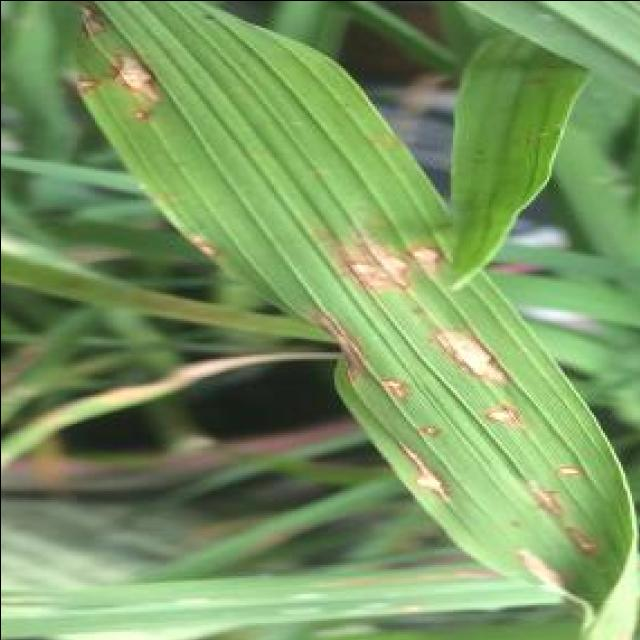Leaf_Blast: (436, 322, 530, 400), (396, 439, 470, 519), (105, 52, 170, 130), (508, 550, 584, 604), (474, 388, 540, 450), (378, 365, 436, 427), (519, 479, 573, 535), (410, 407, 468, 459), (414, 224, 454, 286), (336, 248, 385, 298), (540, 452, 596, 495), (560, 526, 604, 571), (378, 248, 416, 294)
